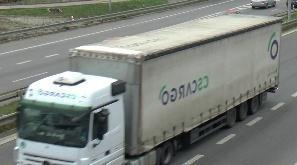Car: (250, 0, 275, 9)
Truck: (15, 13, 282, 165)
